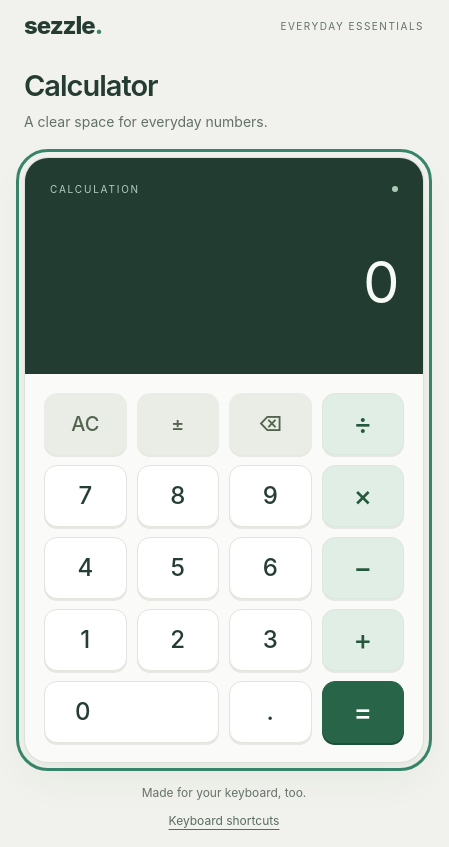
Test: sends one request from the keypad and renders the API result and expression
The image size is (449, 847).
Click the button "1". click: {"x": 85, "y": 640}
box: [44, 609, 126, 671]
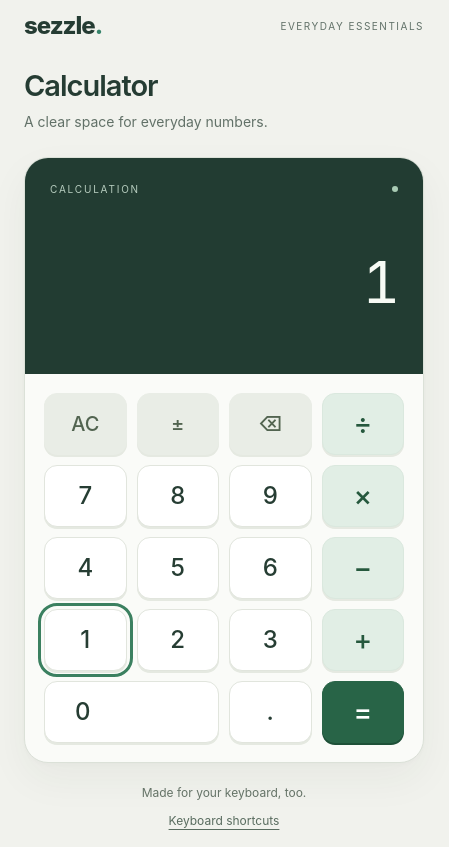
Click the button "2". click: {"x": 178, "y": 640}
box: [136, 609, 219, 671]
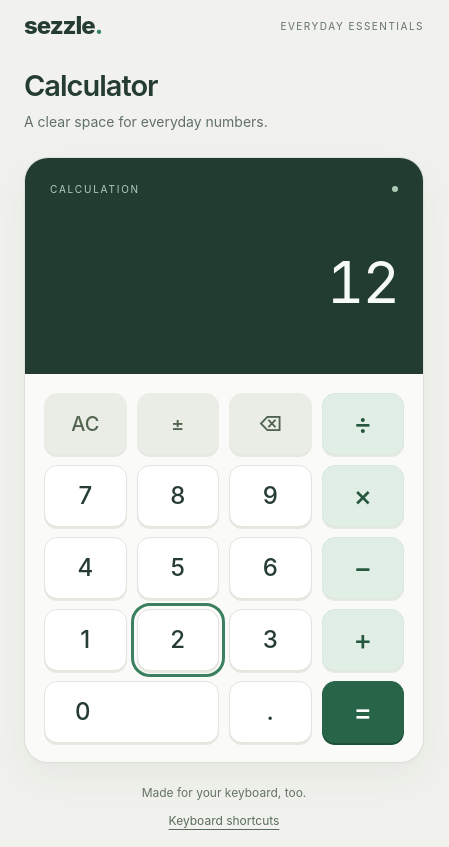
Click the button named "Multiply". click: {"x": 363, "y": 496}
box: [322, 465, 404, 527]
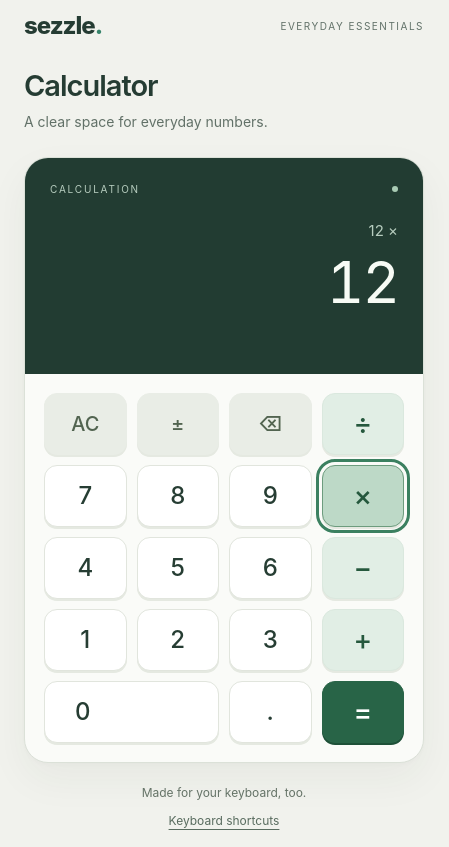
Click the button "5". click: {"x": 178, "y": 568}
box: [136, 537, 219, 599]
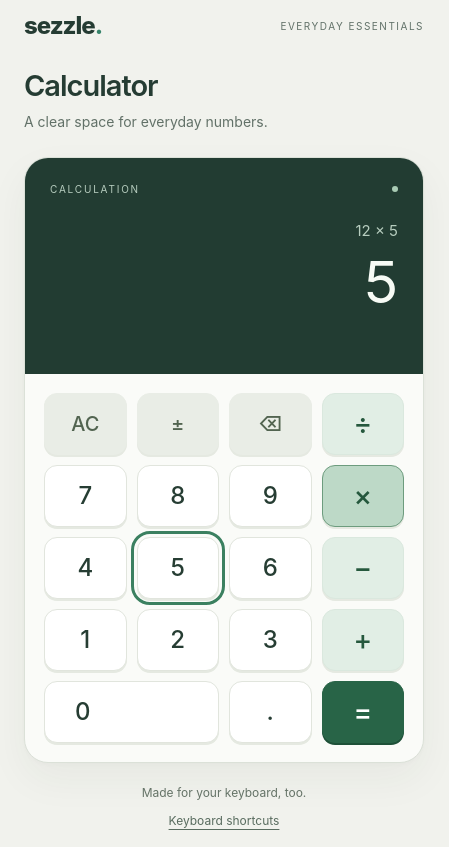
Click the button named "Equals". click: {"x": 363, "y": 712}
box: [322, 681, 404, 743]
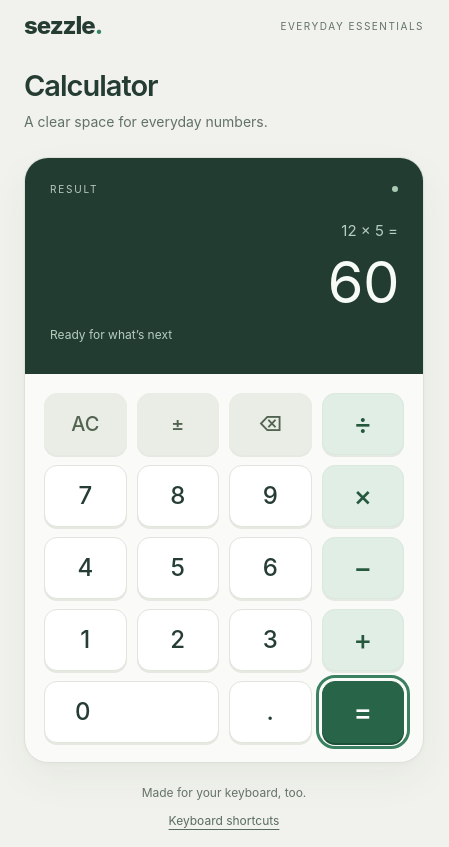
Result: the text named "Result" reads "60" at [327, 247, 398, 317]
Result: the text named "Expression" reads "12 × 5 =" at [341, 221, 398, 240]
